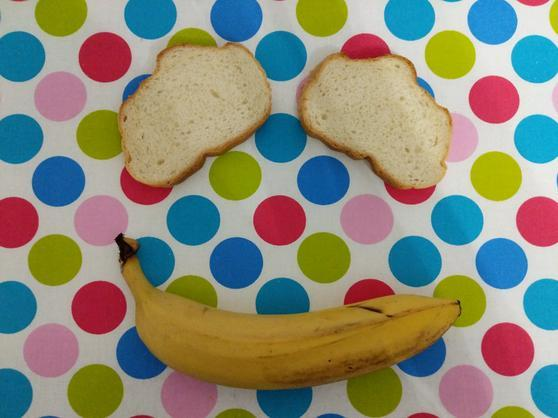banana: (107, 216, 477, 395)
white_bread: (287, 41, 462, 208), (106, 32, 273, 194)
